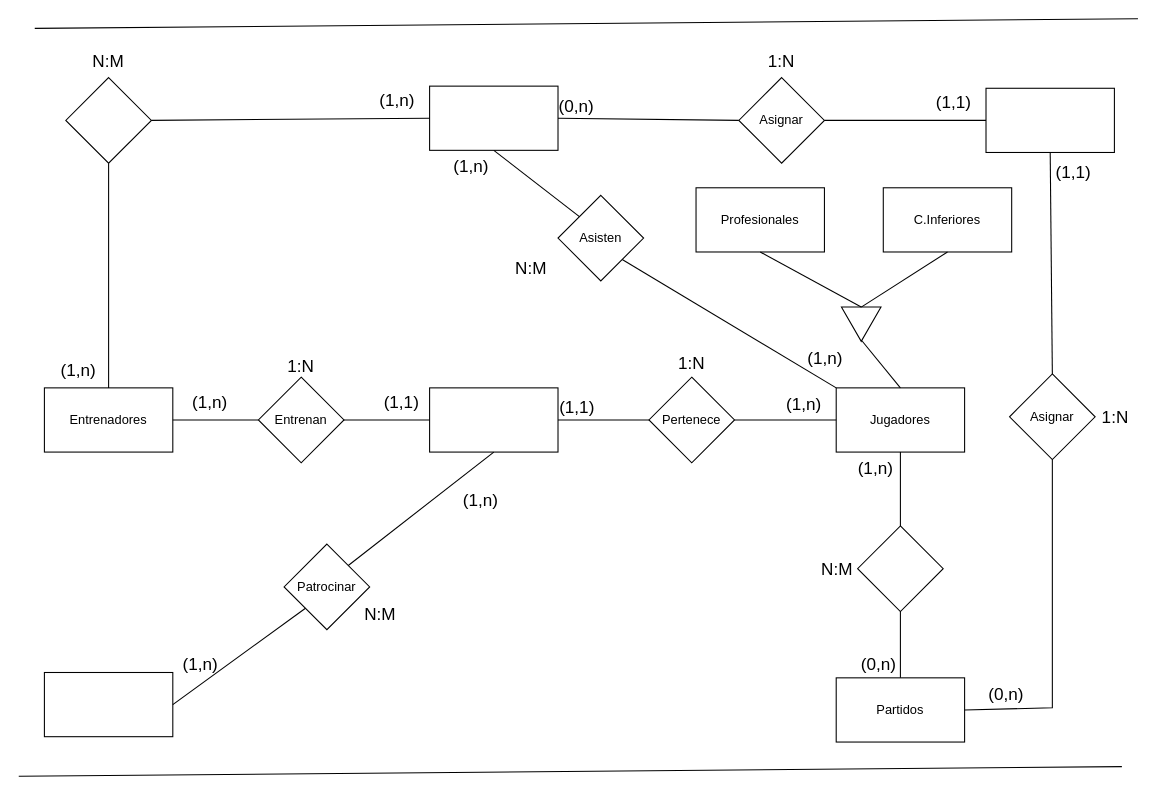
The diagram is 1166 pixels wide and 796 high, and some of its shapes have lost their labels. The centre of each missing label's shape, as x and y in pixels:
"Entrenamientos" goes at (493,117).
"Equipos" goes at (493,419).
"Instalaciones" goes at (1049,119).
"Organizan" goes at (108,120).
"Participan" goes at (900,568).
"Patrocinadores" goes at (108,704).
